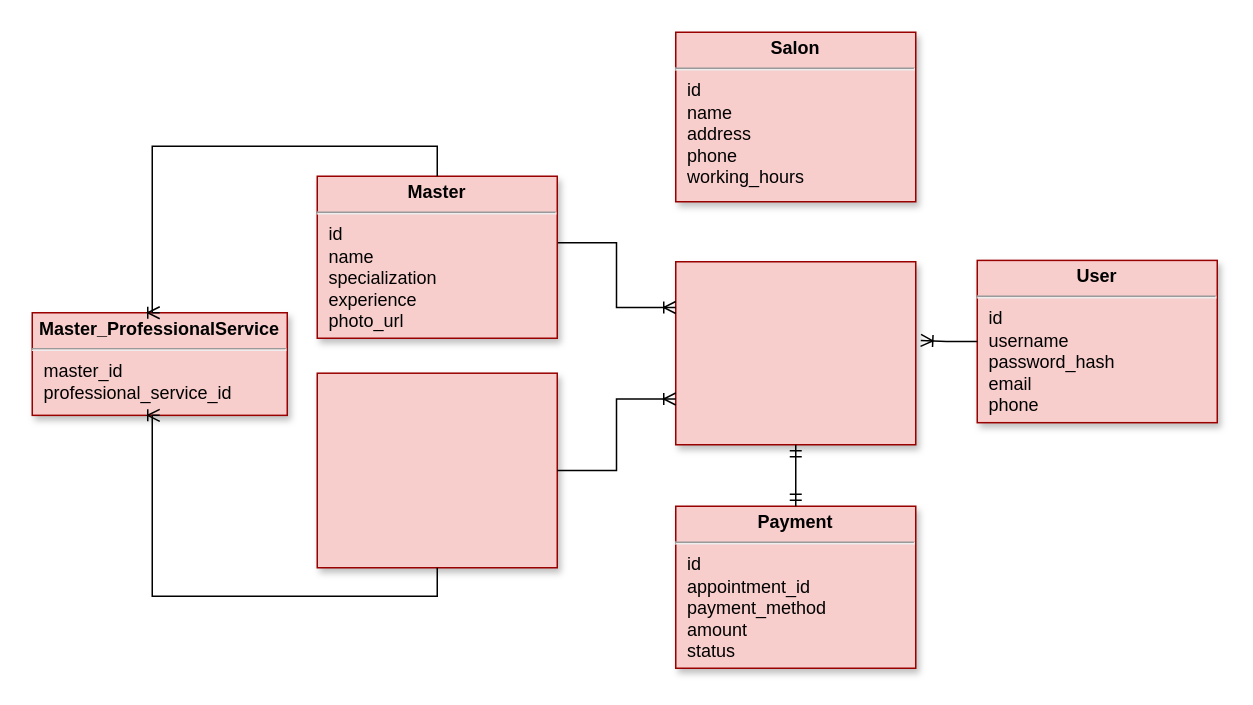
This 1253x705 diagram has some shape labels left out. Here are the shapes that lost their labels. From the top down, the centre of each, then its label:
At [796,354]: "Appointment id user_id master_id professional_service_id datetime status".
At [438,472]: "ProfessionalService id name description duration price category".
